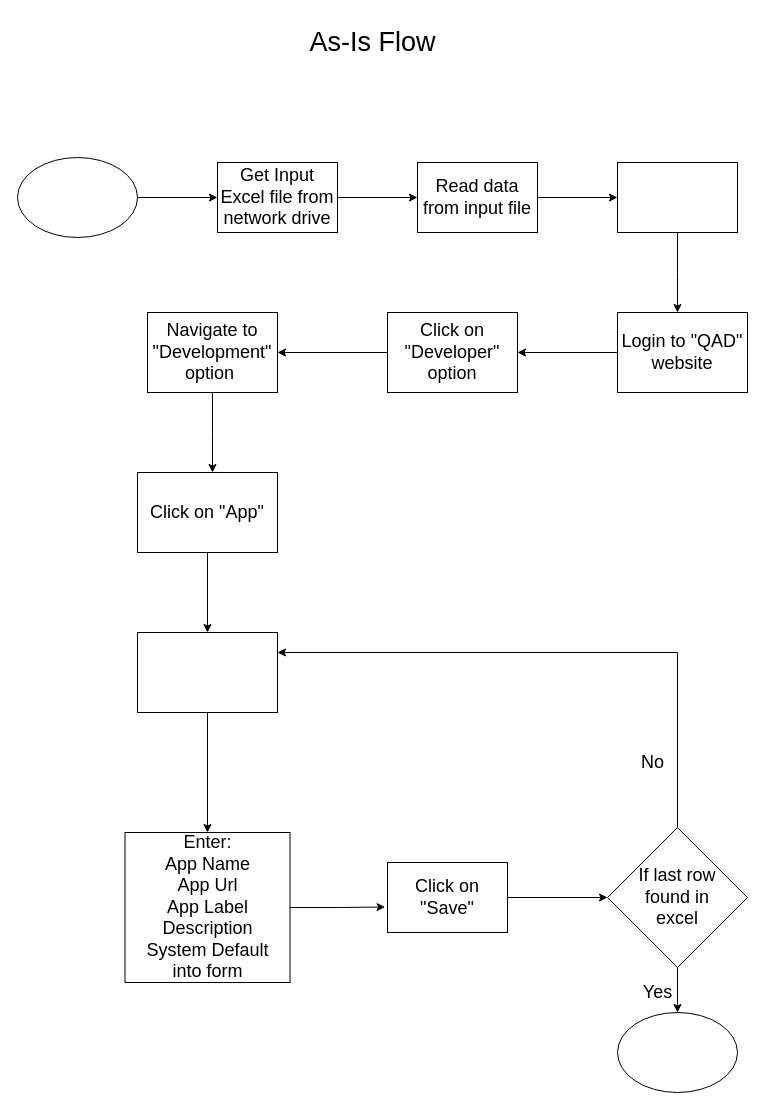
Some shapes in this 765 by 1110 pixel diagram are drawn without their labels. The shapes that lost their labels are listed below. From the top down, each one's box as (x1, y1, x2, y2) in pixels, then its label:
(16, 156, 138, 238): Start
(616, 162, 738, 232): Open "QAD" website
(136, 632, 278, 712): Click on "New"
(616, 1012, 738, 1092): End
